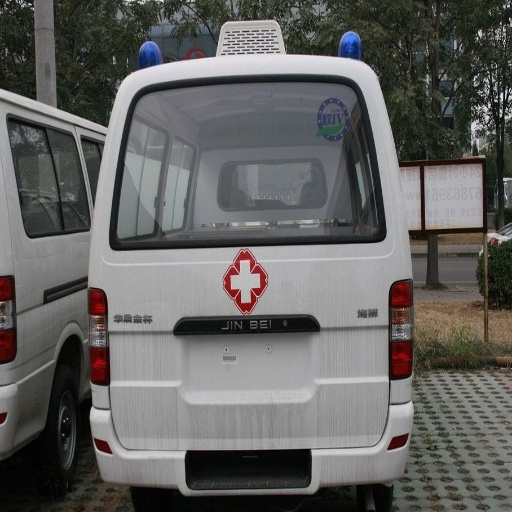back_bumper: (94, 379, 409, 505), (3, 365, 53, 425)
back_glass: (151, 157, 374, 238), (194, 128, 280, 148)
back_left_light: (89, 289, 107, 383)
trunk: (105, 240, 403, 435), (32, 283, 85, 366), (224, 86, 310, 125)
